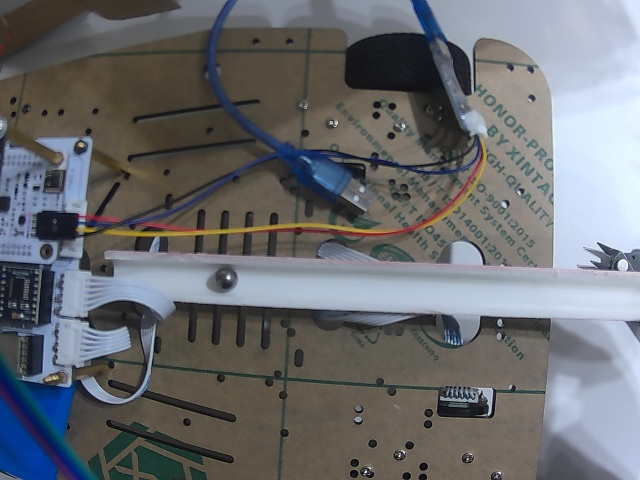steelball: (213, 266, 238, 291)
